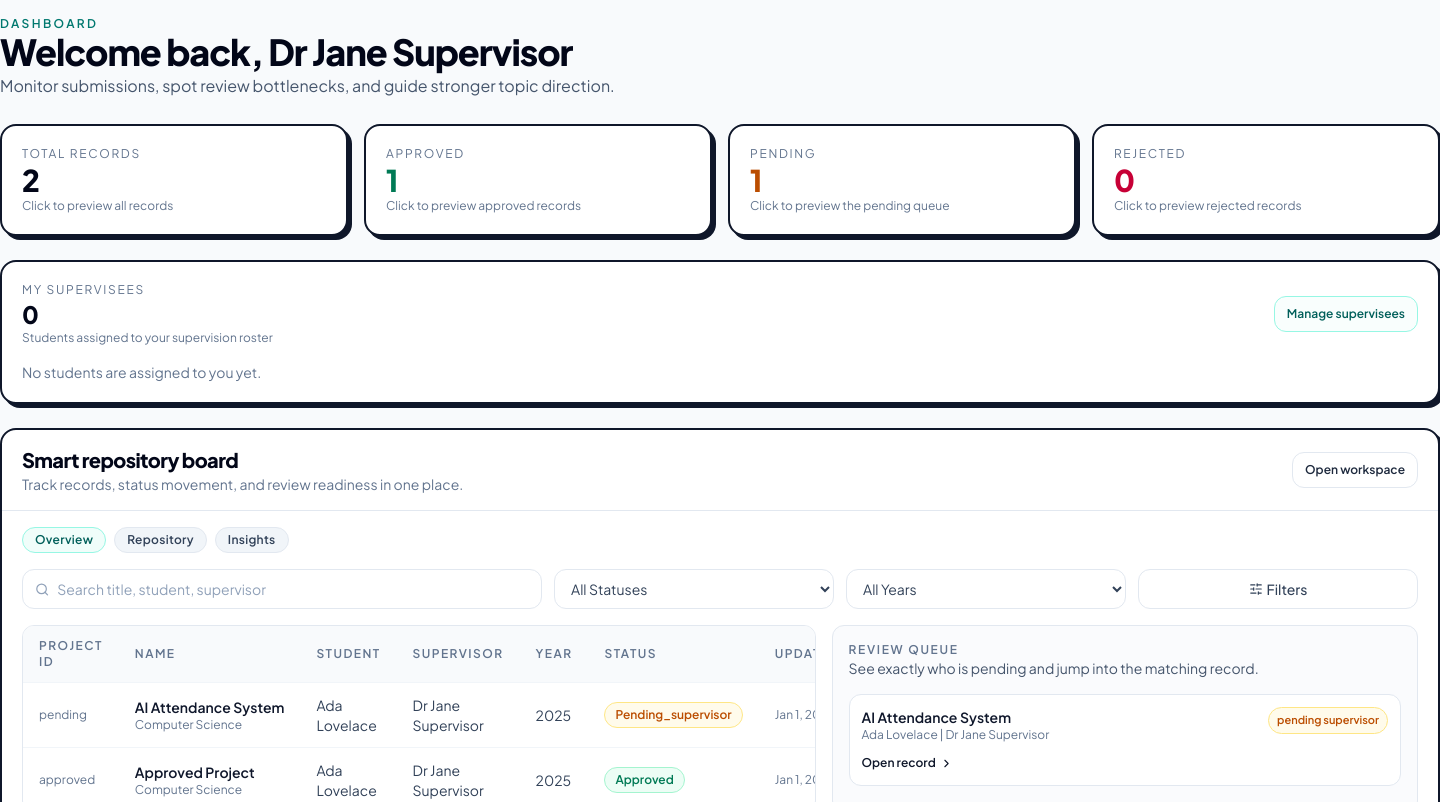
Test: DashboardPage › lets the user switch to the repository tab and keeps a selected state
This screenshot has width=1440, height=802.
Click the button "Repository" at {"x": 161, "y": 540}, box [114, 527, 207, 553]
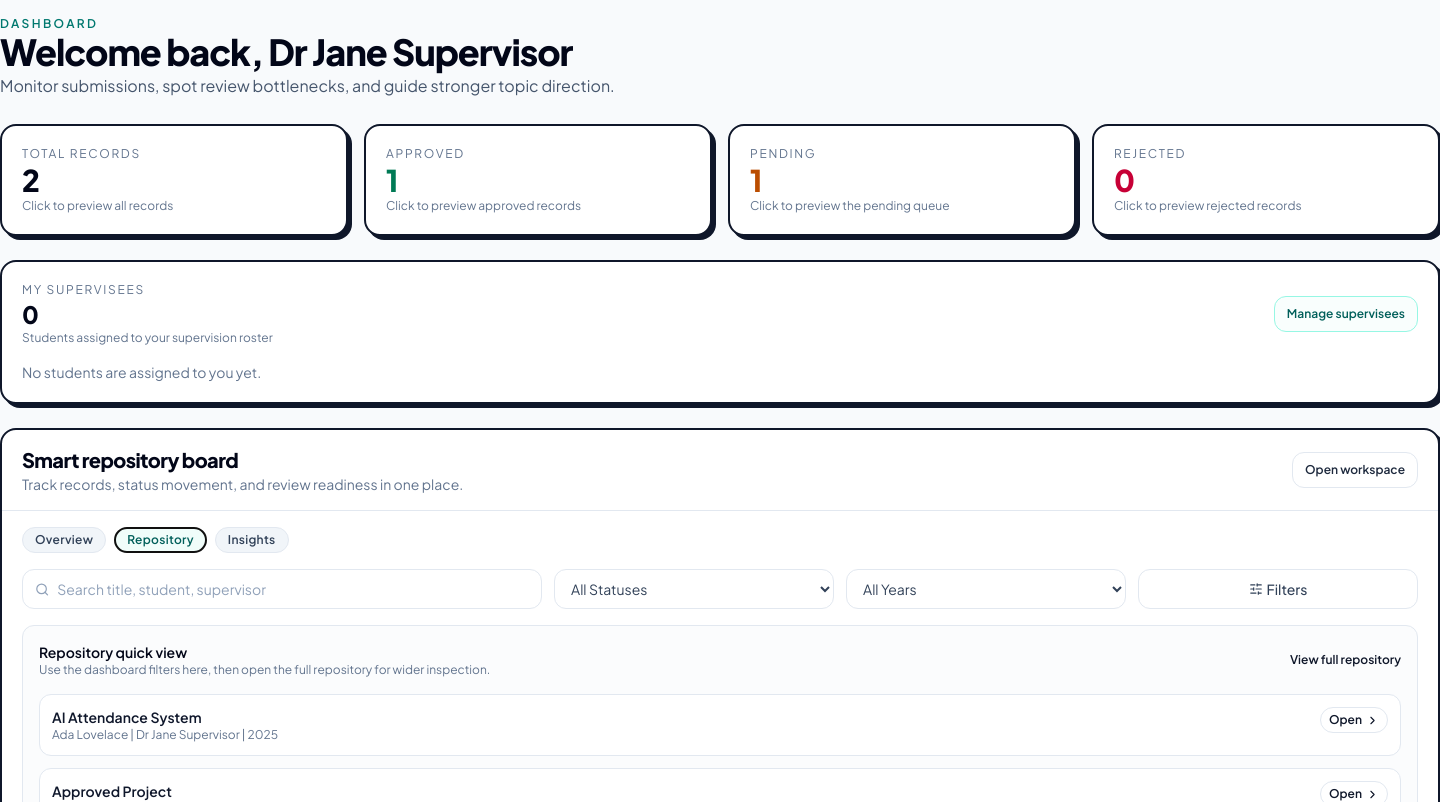
Result: the text "Repository quick view" is shown at [39, 643, 187, 661]
